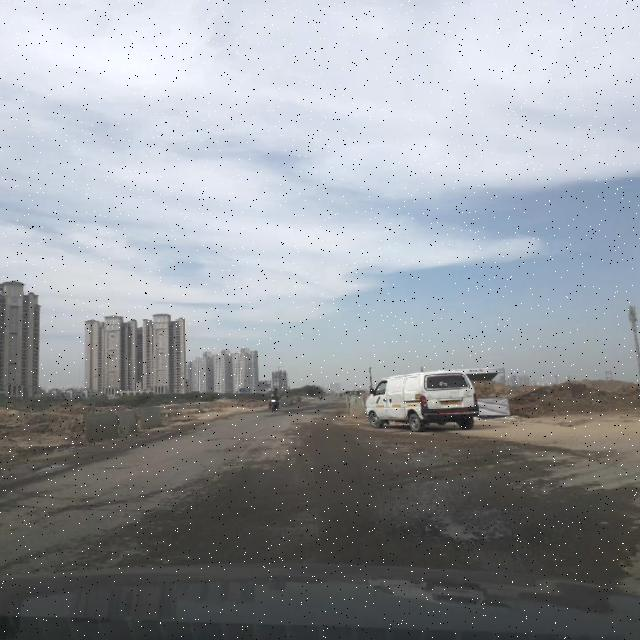D20: (125, 444, 240, 542)
D40: (361, 447, 532, 549)
